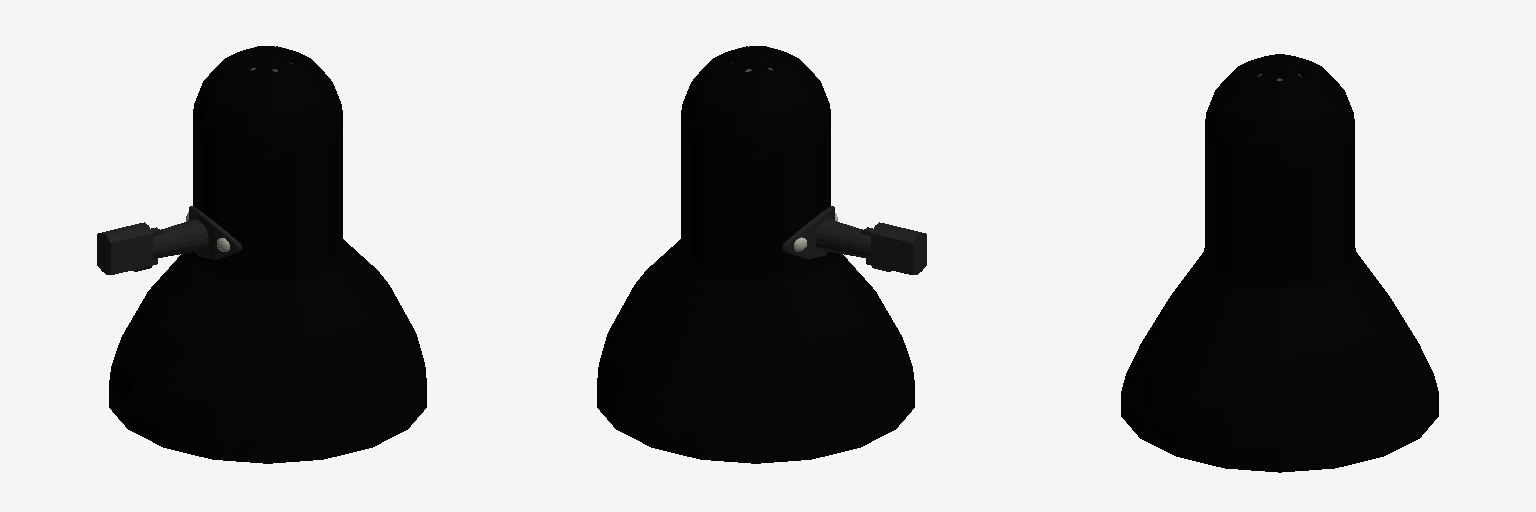
The model's file is head.obj.
3 views of the same model, side by side, from view 1: azimuth 30°, elevation 25°; view 2: azimuth 150°, elevation 25°; view 3: azimuth 270°, elevation 25° (orthographic).
Parts seen in each view (by area): view 1: Cylinder005, Box010, Cylinder004, Object014; view 2: Cylinder005, Box010, Cylinder004, Object014; view 3: Cylinder005.
Part boxes in pixels (bbox=[...]): Cylinder005: bbox=[109, 46, 426, 463]; Box010: bbox=[97, 222, 152, 274]; Cylinder004: bbox=[153, 219, 208, 258]; Object014: bbox=[189, 206, 241, 259]; Cylinder005: bbox=[597, 46, 914, 463]; Box010: bbox=[871, 222, 926, 274]; Cylinder004: bbox=[815, 219, 870, 258]; Object014: bbox=[782, 206, 834, 259]; Cylinder005: bbox=[1121, 54, 1438, 472].
Bounding box in the file's own units: 0.1339 × 0.1692 × 0.1214.